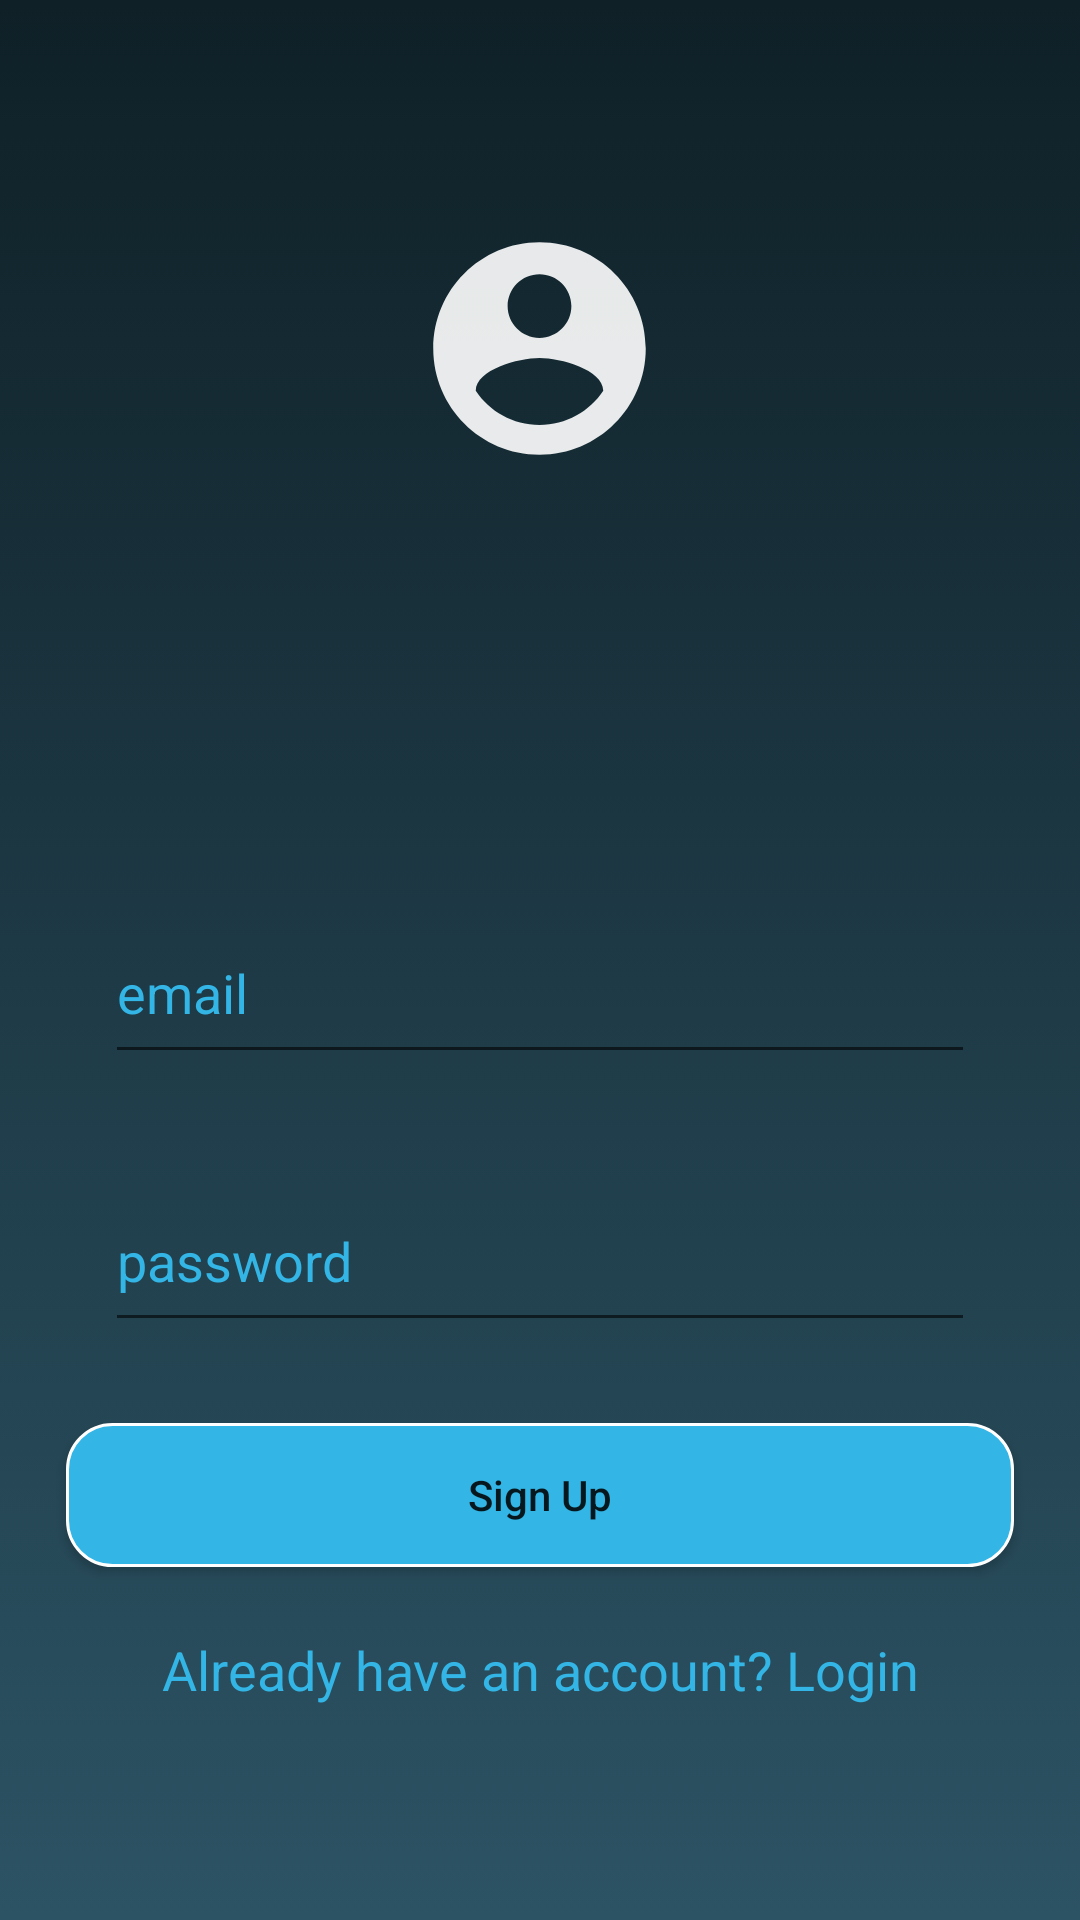

Point at icon controls on the screen. Image size 1080 x 1920, points as (x=x, y=y).
account circle: (x=539, y=348)
